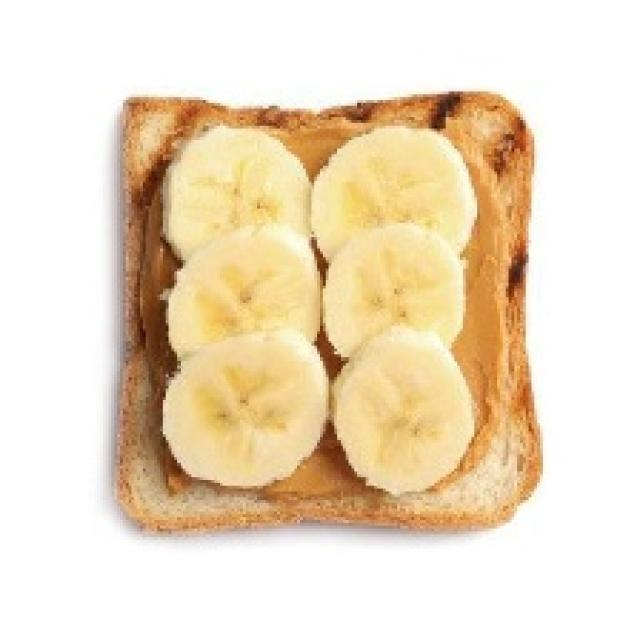Banana: (160, 328, 329, 488), (329, 323, 474, 494), (309, 123, 477, 263), (163, 220, 320, 357), (160, 123, 311, 260), (320, 223, 466, 357)
